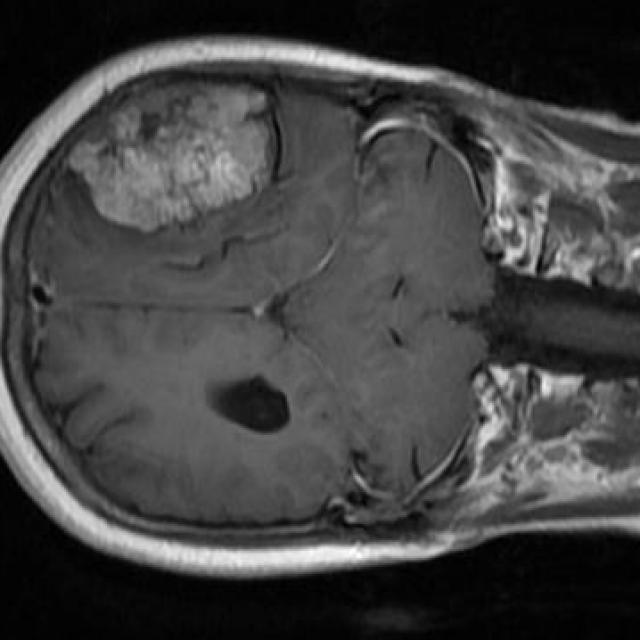meningioma: (70, 87, 271, 232)
